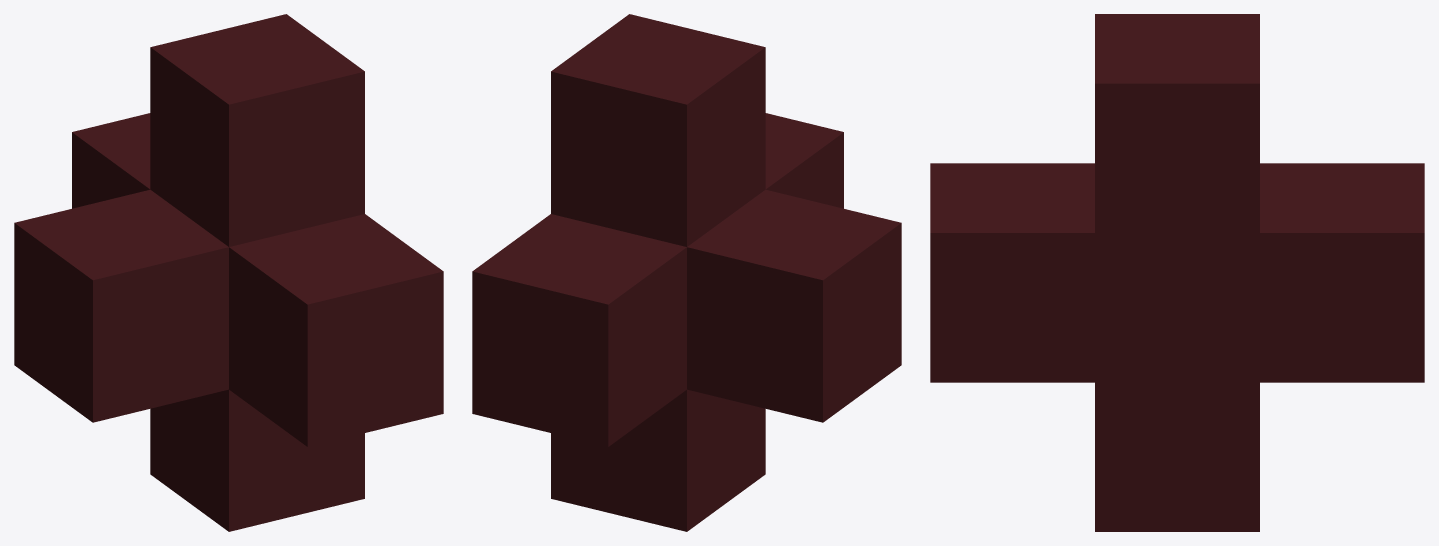
The picture shows the model from 3 angles, left to right: view 1: azimuth 30°, elevation 25°; view 2: azimuth 150°, elevation 25°; view 3: azimuth 270°, elevation 25°; orthographic projection. The views are drawn at different scales.
Parts seen in each view (by area): view 1: 左下; view 2: 左下; view 3: 左下.
Part boxes in pixels (<box>): 左下: <box>14,14,443,531</box>; 左下: <box>472,14,901,531</box>; 左下: <box>930,14,1424,531</box>.
Size of the model in its own units: 400 by 600 by 600.
